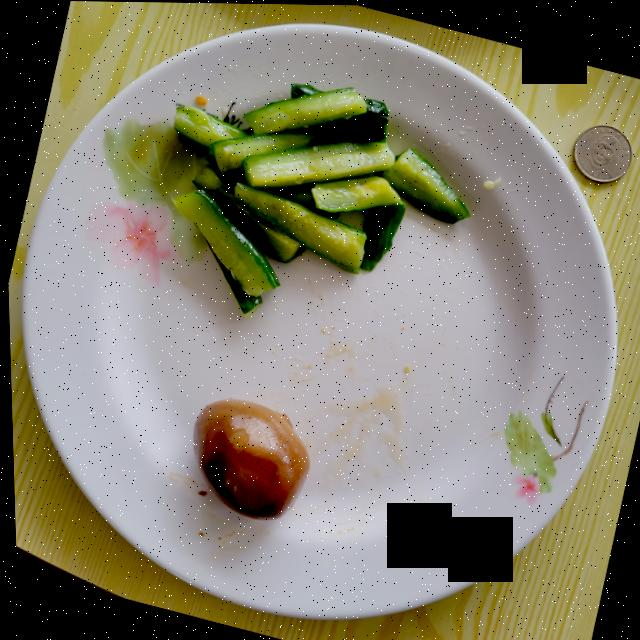coin: (571, 123, 631, 181)
cucumber: (171, 82, 467, 315)
soy egg: (190, 398, 307, 519)
